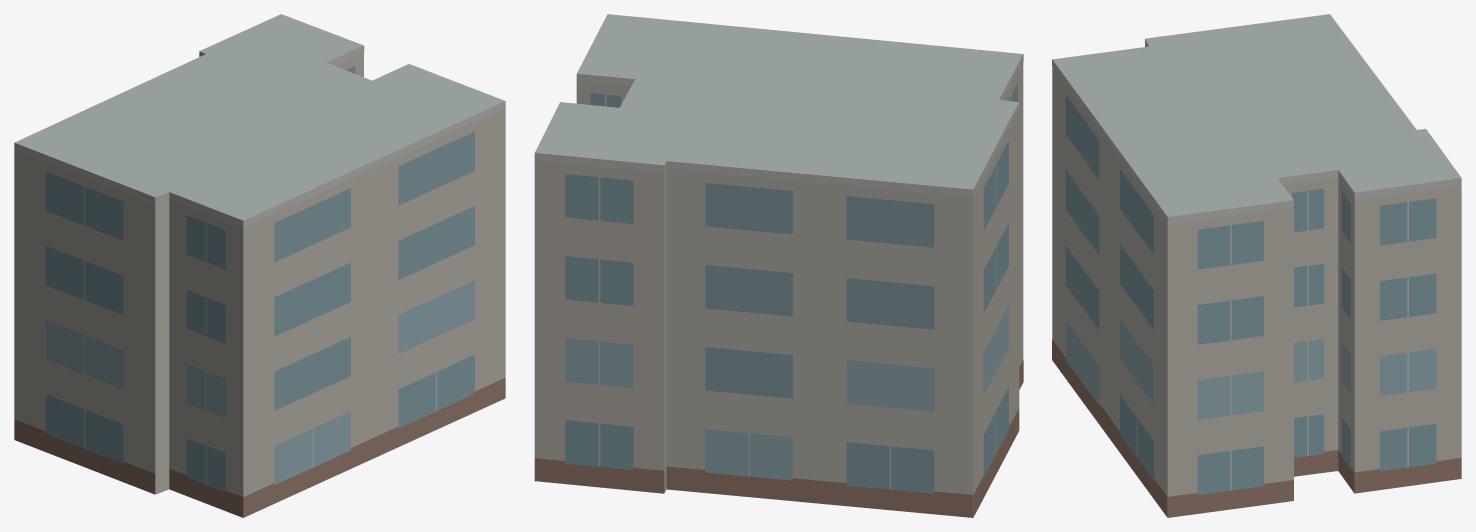
The model's file is survey-upis-32543261.glb.
3 renders of one model, left to right at view 1: azimuth 30°, elevation 25°; view 2: azimuth 150°, elevation 25°; view 3: azimuth 270°, elevation 25°, orthographic. The views are drawn at different scales.
Parts seen in each view (by area): view 1: survey-upis-32543261.tmp; view 2: survey-upis-32543261.tmp; view 3: survey-upis-32543261.tmp.
Boxes of the visible parts, x1,y1,x2,y2 form: survey-upis-32543261.tmp: [14, 14, 505, 517]; survey-upis-32543261.tmp: [534, 14, 1023, 517]; survey-upis-32543261.tmp: [1052, 14, 1461, 517].
Size of the model in its own units: 15.29 by 10.55 by 13.02.
